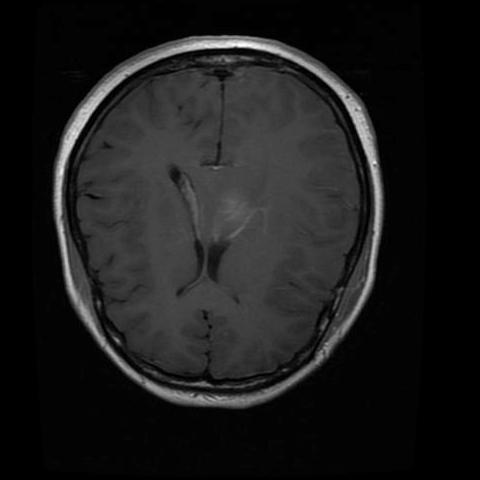Tumour-Pituitary: (199, 179, 266, 260)
